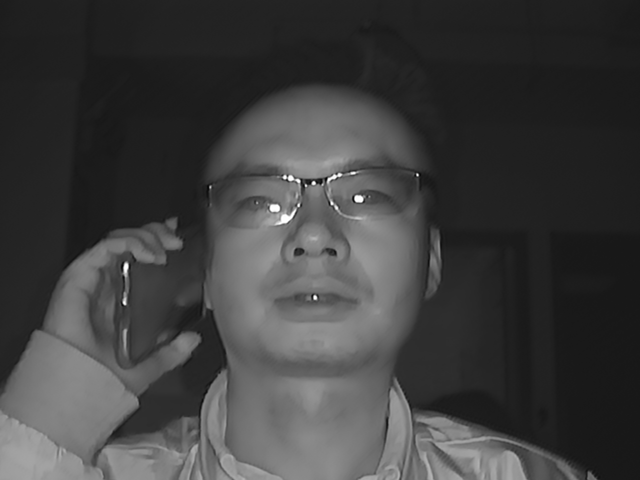hand: (62, 216, 170, 391)
